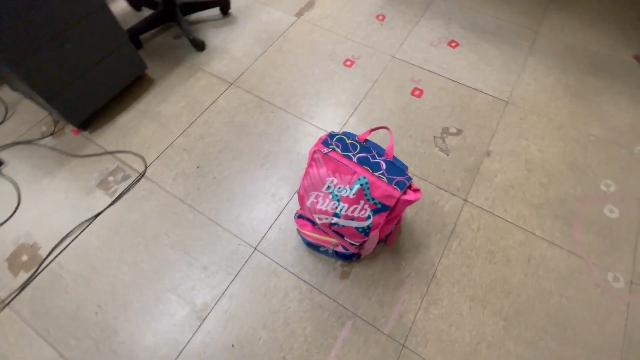Backpack: (292, 120, 428, 270)
